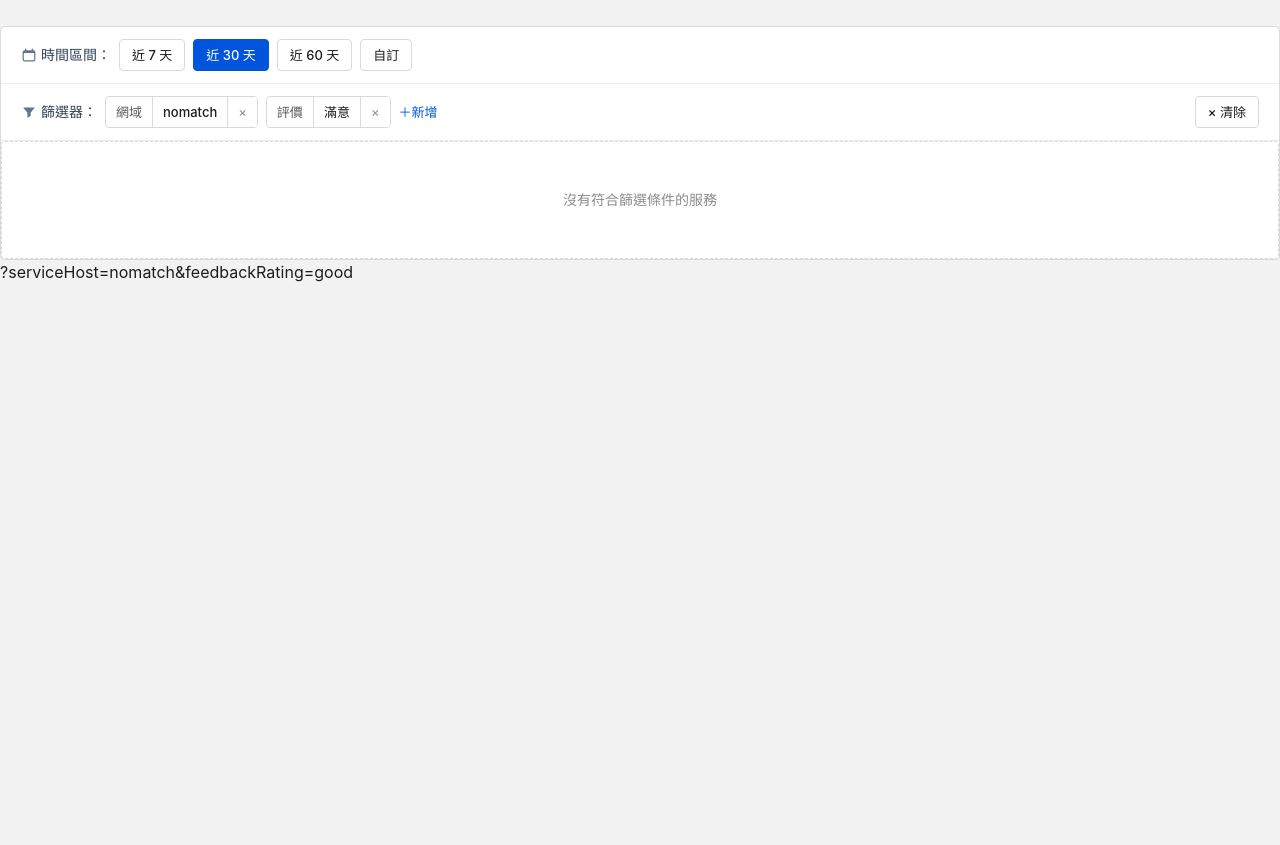
it: FeedbackOverviewPage: filter params › sends no feedback request when the service conditions match no service
The width and height of the screenshot is (1280, 845).
Expected: the text titled "滿意" is shown, [313,97,360,127]
Expected: the text "沒有符合篩選條件的服務" is shown, [563,191,717,208]
# Removing the condition queries again.
Click the button named "移除 網域 篩選": coordinates (242, 112) [227,97,257,127]
(page scrolled)
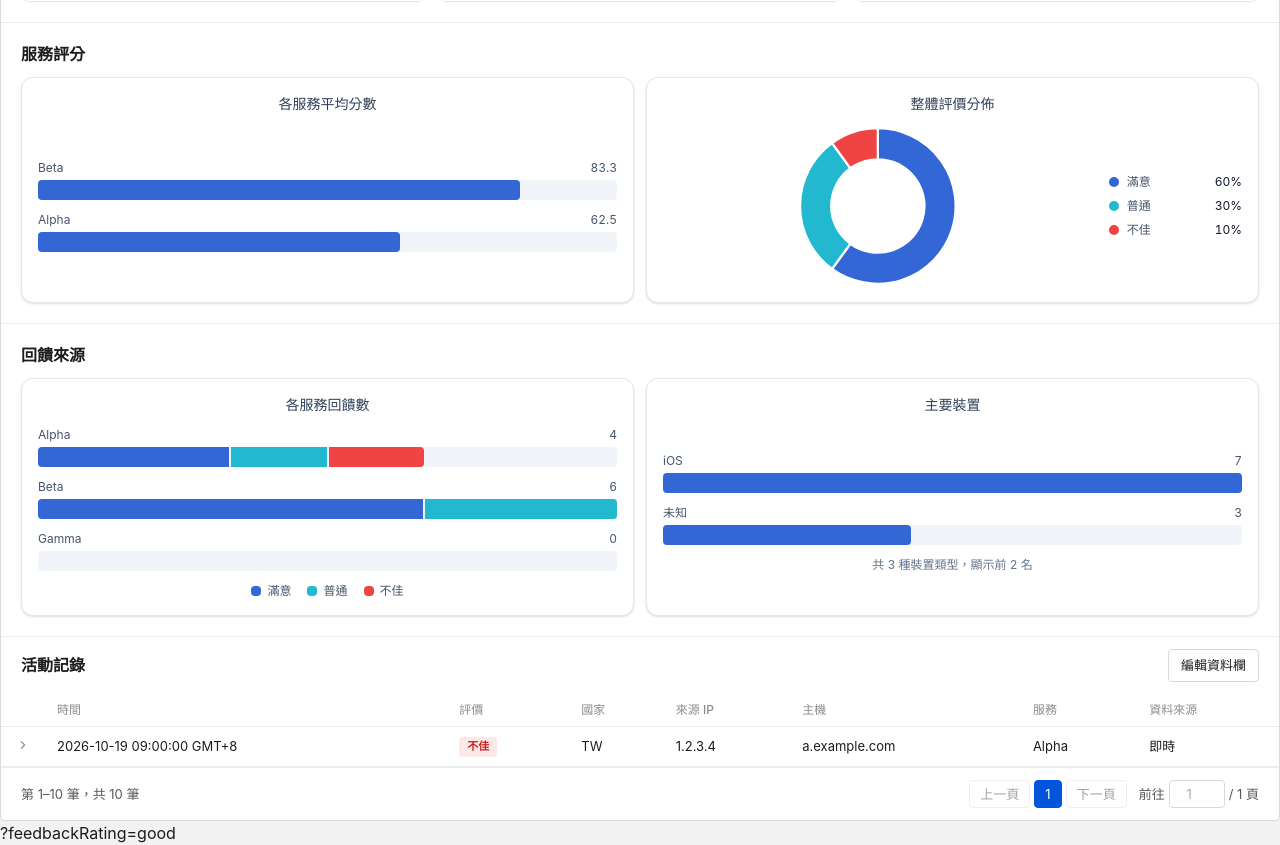
Expected: the text named "location" reads "?feedbackRating=good", [0,823,176,843]
